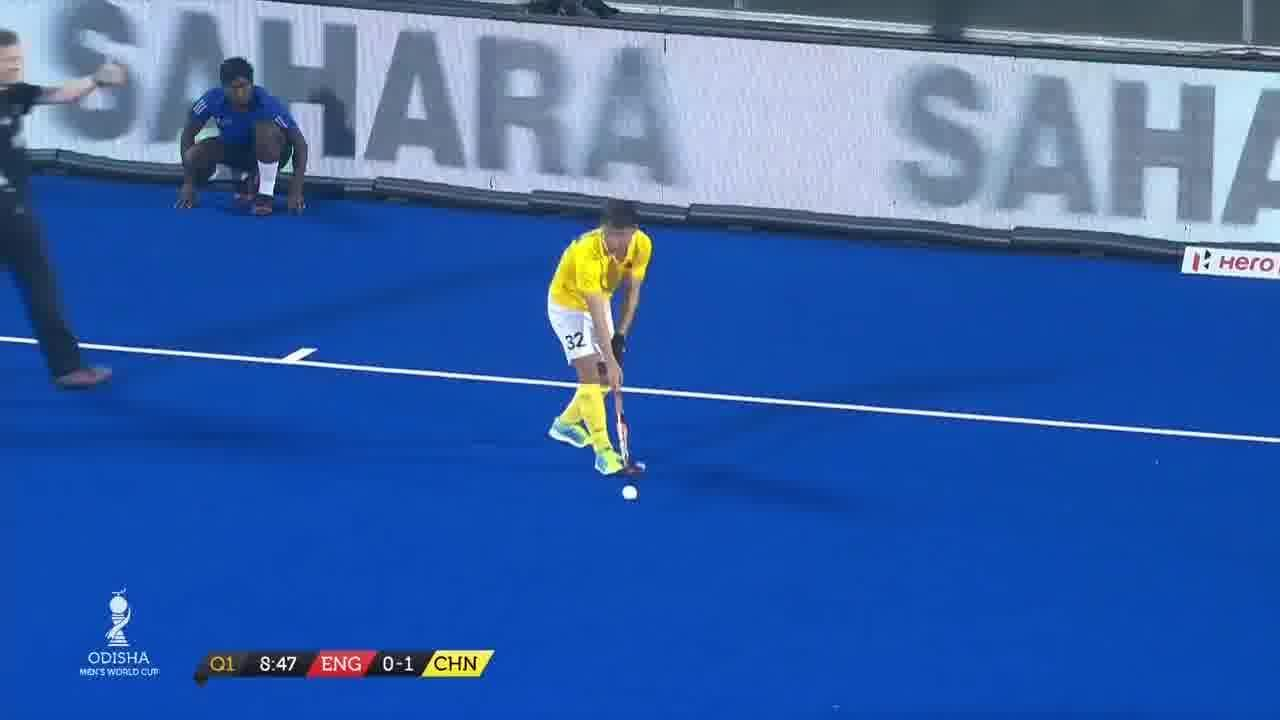ball: (616, 481, 648, 510)
